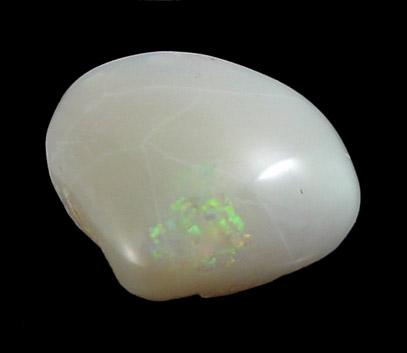opal: (148, 194, 251, 270)
